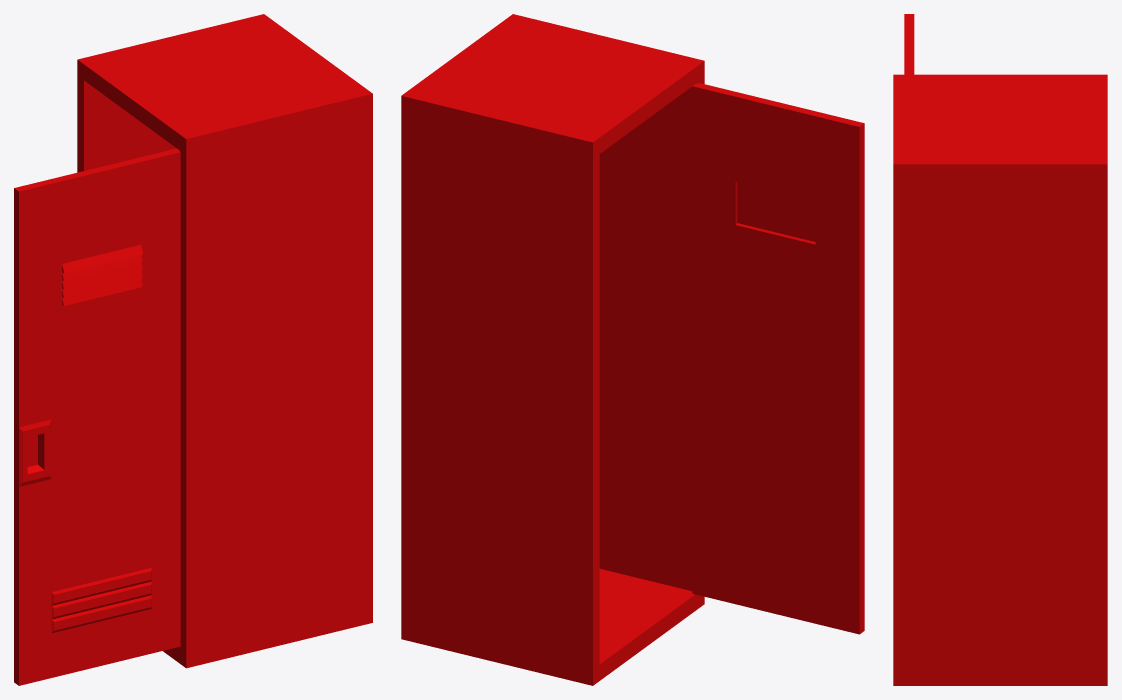
Rendered from locker_fix.fbx.
3 renders of one model, left to right at view 1: azimuth 30°, elevation 25°; view 2: azimuth 150°, elevation 25°; view 3: azimuth 270°, elevation 25°, orthographic. The views are drawn at different scales.
Parts seen in each view (by area): view 1: Special Locker, Special Locker.001, Locker1.001; view 2: Special Locker, Special Locker.001, Locker1.001; view 3: Special Locker, Special Locker.001.
Boxes of the visible parts, left/top/right/bottom form: Special Locker: left=77, top=14, right=372, bottom=668; Special Locker.001: left=14, top=148, right=180, bottom=685; Locker1.001: left=84, top=80, right=176, bottom=170; Special Locker: left=401, top=14, right=704, bottom=685; Special Locker.001: left=692, top=83, right=864, bottom=634; Locker1.001: left=599, top=82, right=697, bottom=663; Special Locker: left=893, top=74, right=1107, bottom=685; Special Locker.001: left=904, top=14, right=914, bottom=74.
Size of the model in its own units: 375 by 545 by 203.
